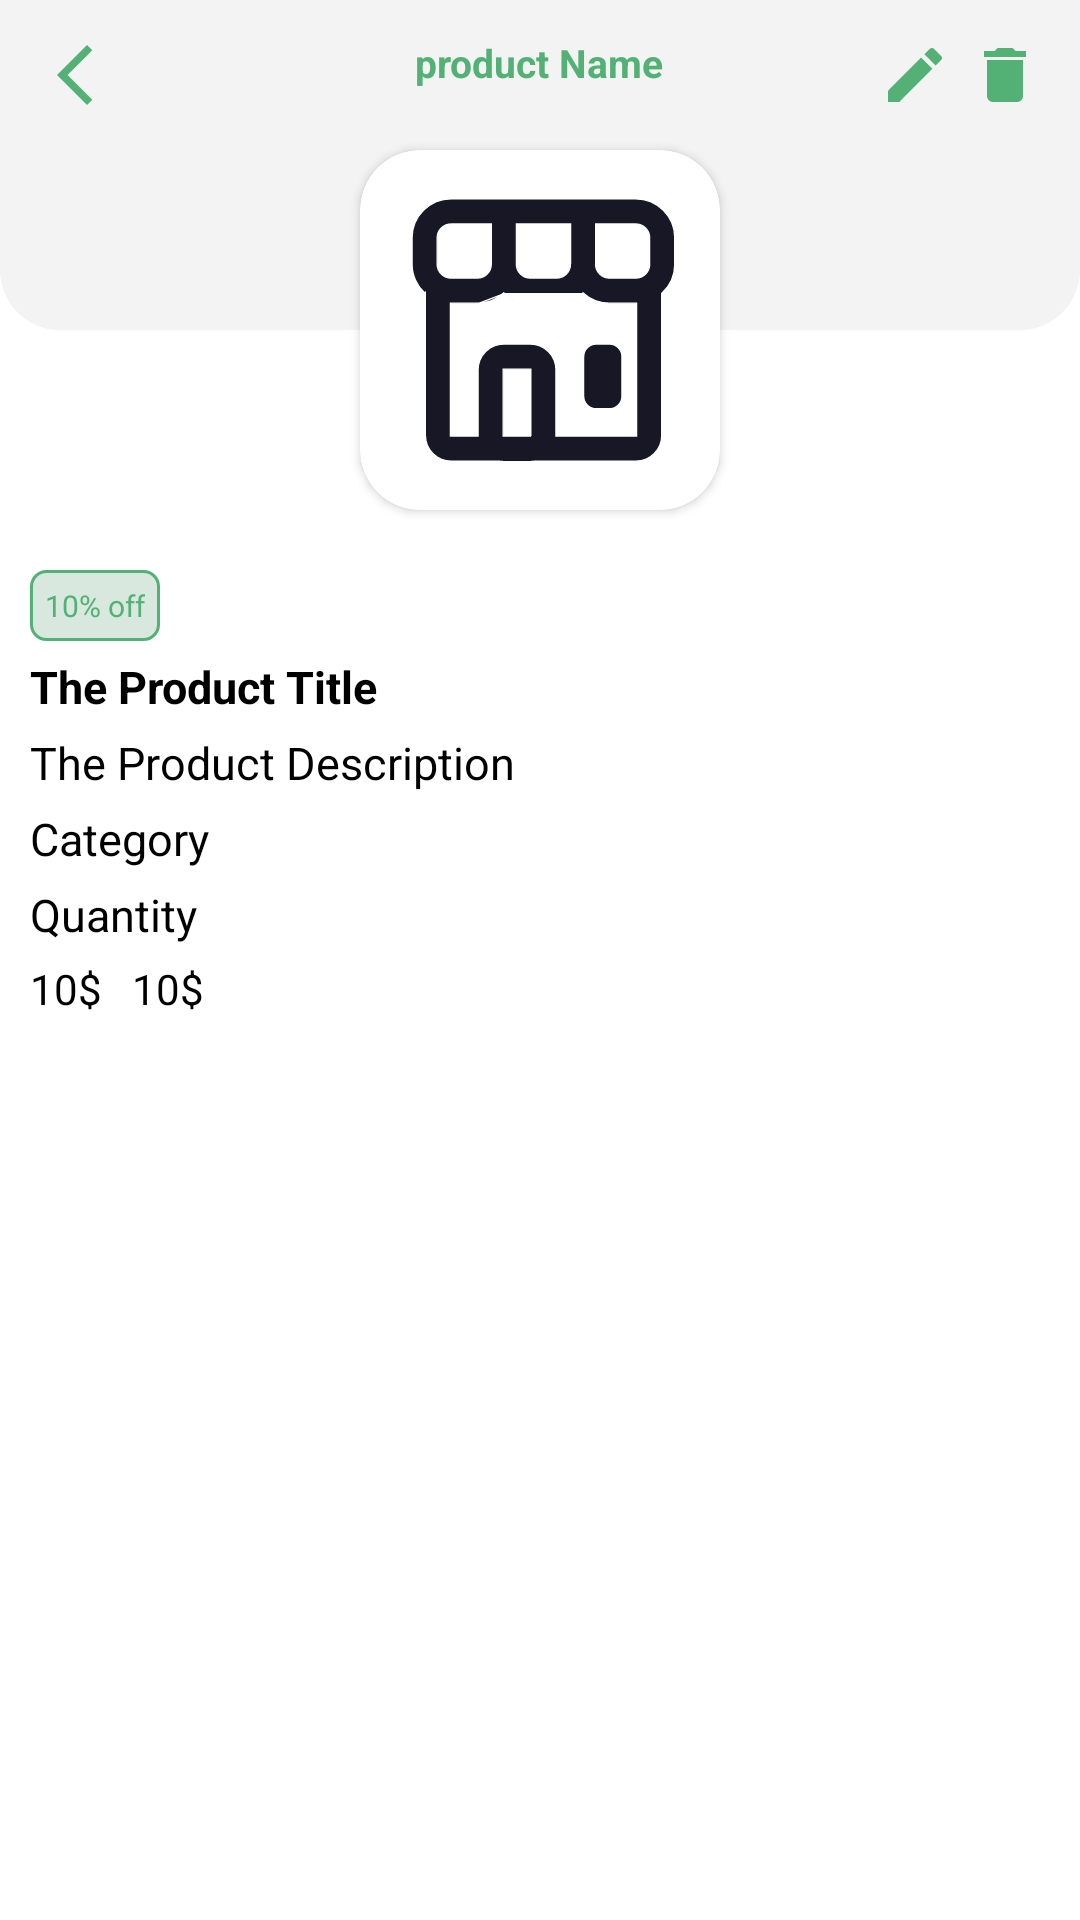

Point at icon controls on the screen. Image size 1080*1920, points as (x=x, y=y).
back: (x=74, y=75)
delete: (x=1005, y=75)
edit: (x=915, y=75)
store: (x=543, y=330)
